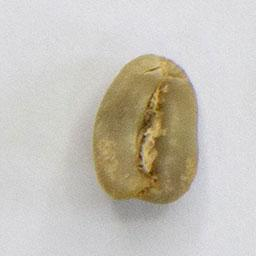longberry: (87, 50, 202, 207)
